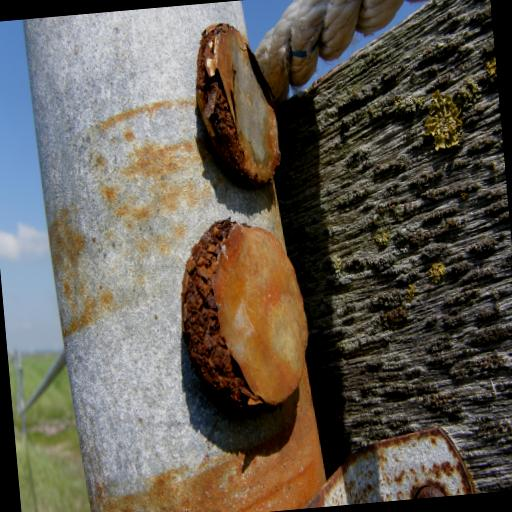segmentation: (96, 352, 326, 512), (211, 224, 307, 407), (182, 219, 269, 415), (303, 428, 474, 509), (196, 24, 280, 187)
